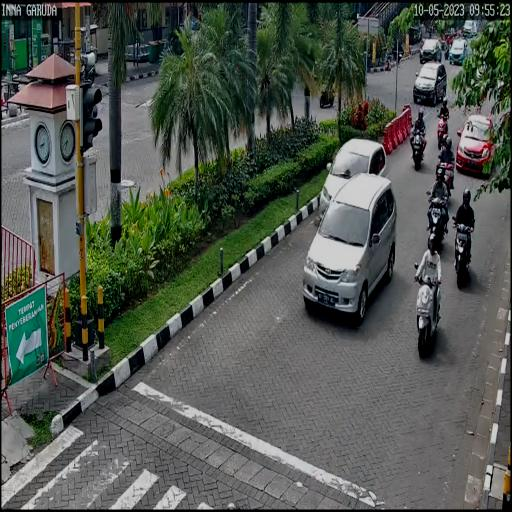mobil: (301, 173, 400, 329), (316, 128, 389, 242), (455, 106, 491, 186), (413, 60, 447, 107)
motor: (411, 260, 442, 370), (452, 214, 478, 296), (425, 185, 449, 254), (410, 122, 426, 176), (440, 157, 455, 199), (435, 109, 450, 148)
